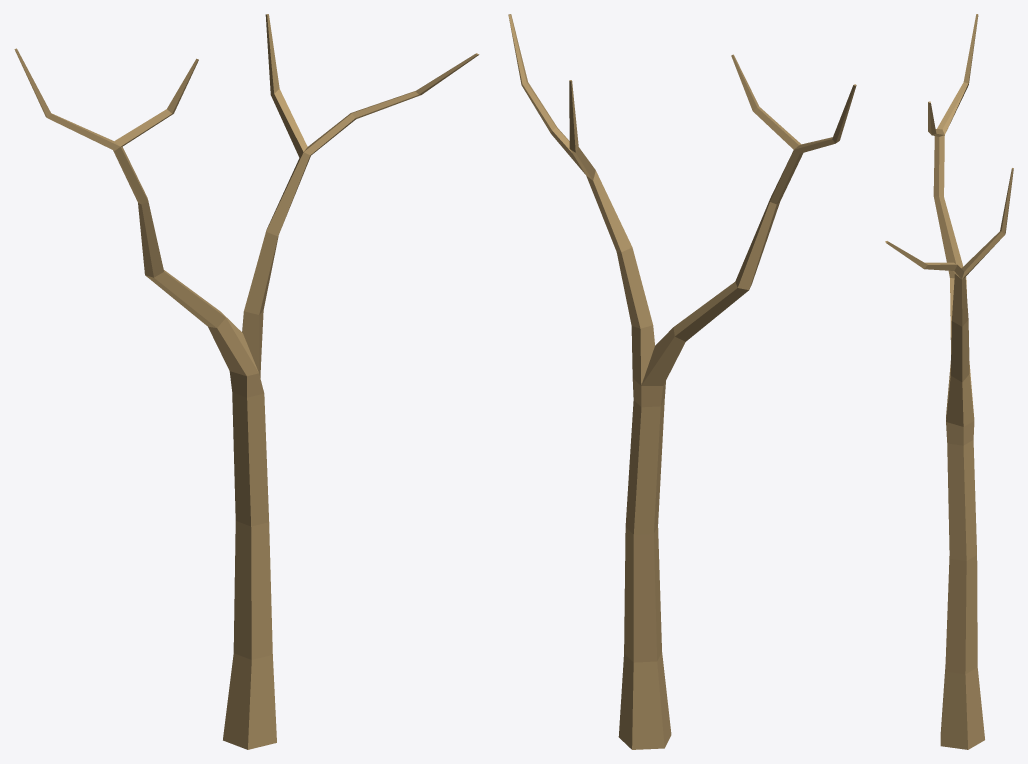
Rendered from Acacia_Tree_NoLeaves_s_01_LOD.fbx.
The picture shows the model from 3 angles, left to right: view 1: azimuth 30°, elevation 25°; view 2: azimuth 150°, elevation 25°; view 3: azimuth 270°, elevation 25°; orthographic projection. The views are drawn at different scales.
Visible parts, largest first — view 1: Acacia_Tree_NoLeaves_s_01_LOD0; view 2: Acacia_Tree_NoLeaves_s_01_LOD0; view 3: Acacia_Tree_NoLeaves_s_01_LOD0.
Boxes of the visible parts, x1,y1,x2,y2 form: Acacia_Tree_NoLeaves_s_01_LOD0: (14,14,479,749); Acacia_Tree_NoLeaves_s_01_LOD0: (508,14,856,749); Acacia_Tree_NoLeaves_s_01_LOD0: (885,14,1013,749).
Size of what is drawn, in the model's own units: 361 by 618 by 114.
